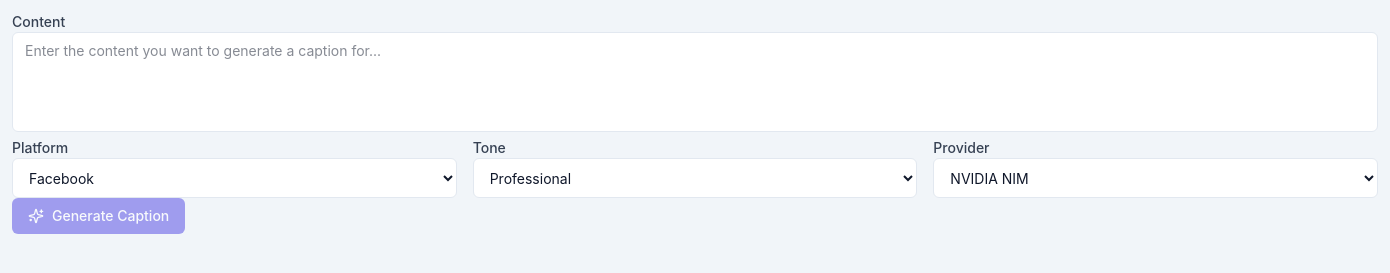
Scenario: CaptionGenerator › interaction › displays error message on failure
Type "Test content" into the text box labelled "Content" at point(695, 82), box [12,32,1378,132]
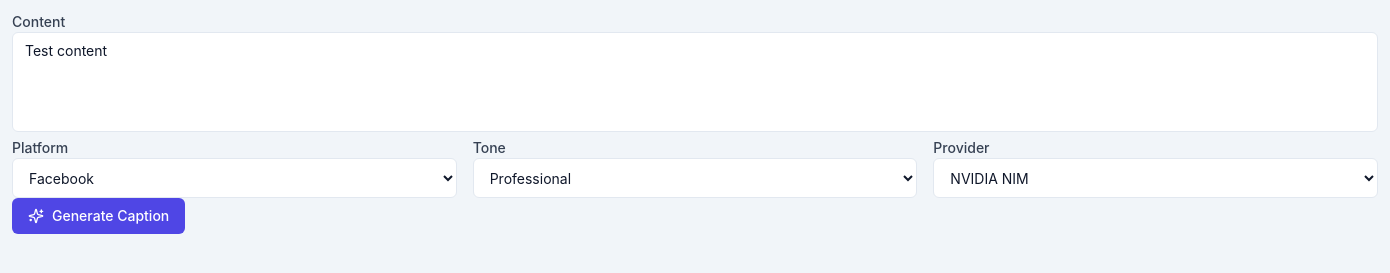
Click the button "Generate Caption" at point(99, 216), box [12,198,185,234]
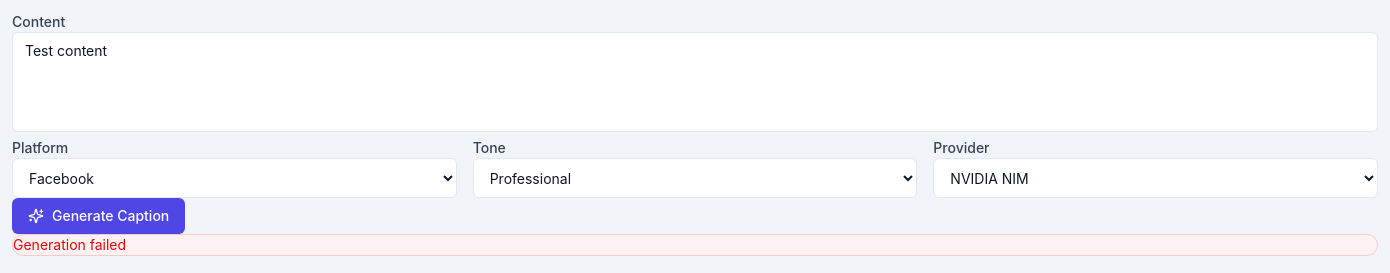
Now the text "Generation failed" is shown, box [13,236,126,253]
